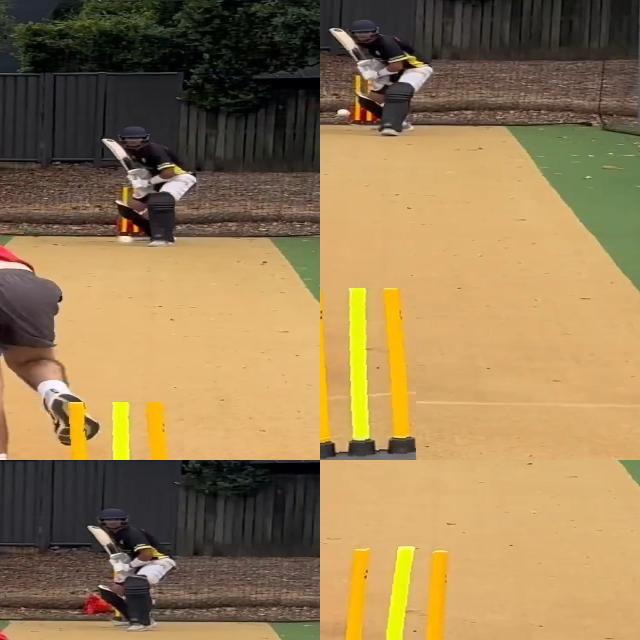Cricket ball: (117, 236, 135, 247), (335, 108, 352, 118)
Stumps: (320, 287, 416, 460), (333, 545, 473, 640), (47, 402, 184, 460)
